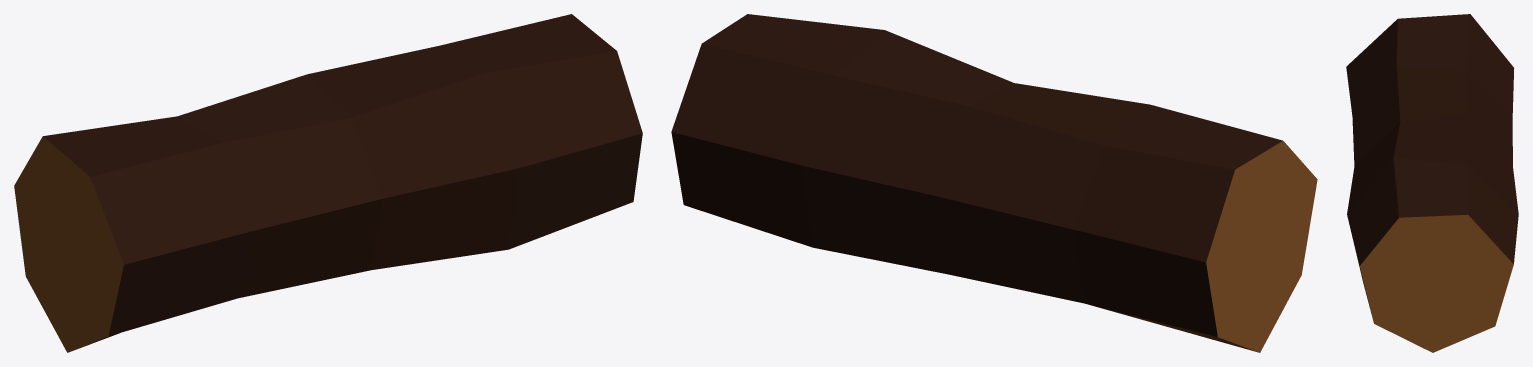
The model's file is log.obj.
3 renders of one model, left to right at view 1: azimuth 30°, elevation 25°; view 2: azimuth 150°, elevation 25°; view 3: azimuth 270°, elevation 25°, orthographic. The views are drawn at different scales.
Visible parts, largest first — view 1: Log; view 2: Log; view 3: Log.
Part boxes in pixels (x1,y1,x2,y2): Log: (14,14,642,352); Log: (671,14,1317,352); Log: (1346,14,1518,352).
Size of the model in its own units: 2.4 by 0.8828 by 0.89.
